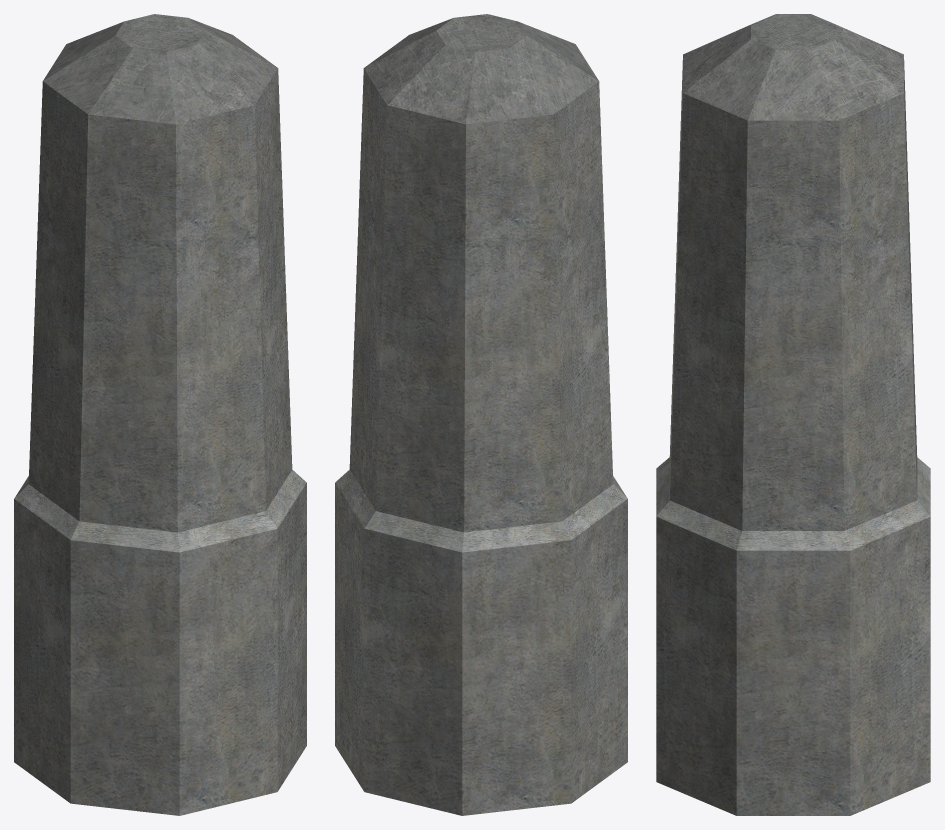
Rendered from mun_all_column_med_impl_s01_l0.fbx.
3 views of the same model, side by side, from view 1: azimuth 30°, elevation 25°; view 2: azimuth 150°, elevation 25°; view 3: azimuth 270°, elevation 25° (orthographic).
Visible parts, largest first — view 1: mesh_node; view 2: mesh_node; view 3: mesh_node.
Boxes of the visible parts, x1,y1,x2,y2 form: mesh_node: (14,14,306,815); mesh_node: (335,14,627,815); mesh_node: (656,14,930,815).
Bounding box in the file's own units: 2.23 × 6.5 × 2.23.
